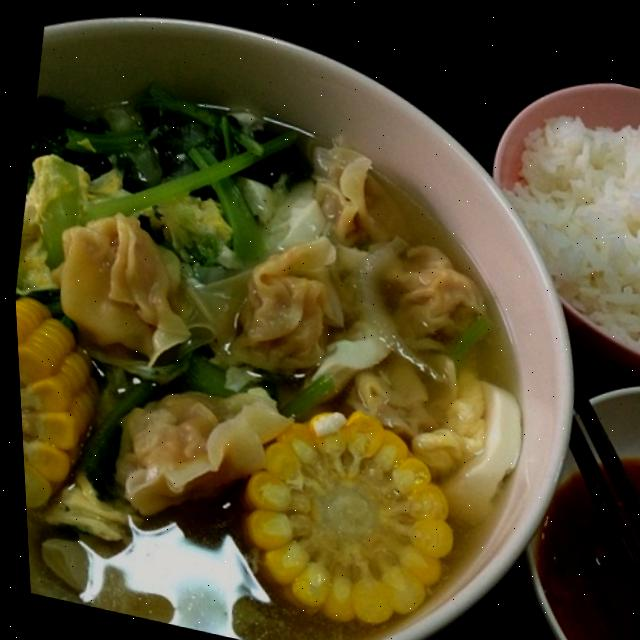汤锅炖物: (1, 31, 585, 640)
